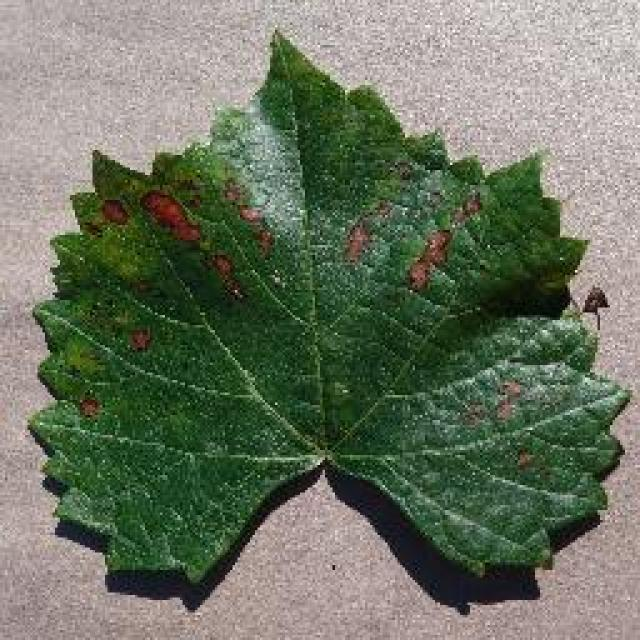Black_Measles: (30, 14, 631, 624)
